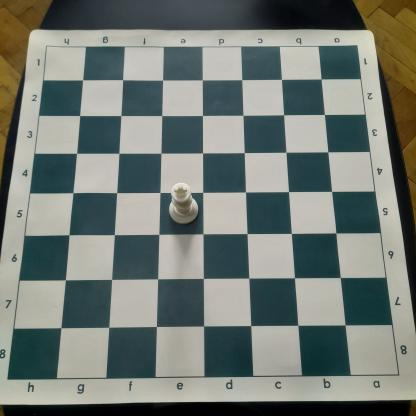white-king: (167, 181, 200, 226)
